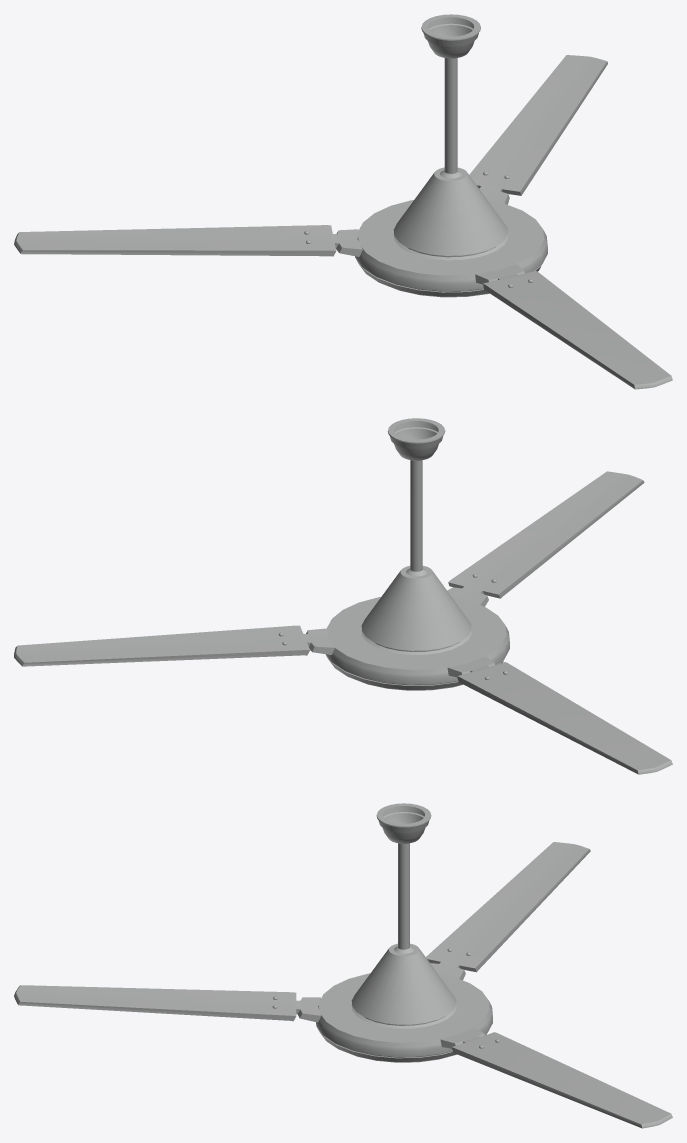
The model's file is Fan.fbx.
3 renders of one model, top to bottom at view 1: azimuth 30°, elevation 25°; view 2: azimuth 150°, elevation 25°; view 3: azimuth 270°, elevation 25°, orthographic. The views are drawn at different scales.
Visible parts, largest first — view 1: Fan, Holder; view 2: Fan, Holder; view 3: Fan, Holder.
Boxes of the visible parts, x1=… form: Fan: x1=14, y1=55, x2=672, y2=389; Holder: x1=421, y1=14, x2=480, y2=173; Fan: x1=14, y1=471, x2=672, y2=774; Holder: x1=387, y1=418, x2=445, y2=571; Fan: x1=14, y1=842, x2=672, y2=1128; Holder: x1=376, y1=803, x2=431, y2=949.
Bounding box in the file's own units: 121 × 45.17 × 118.
